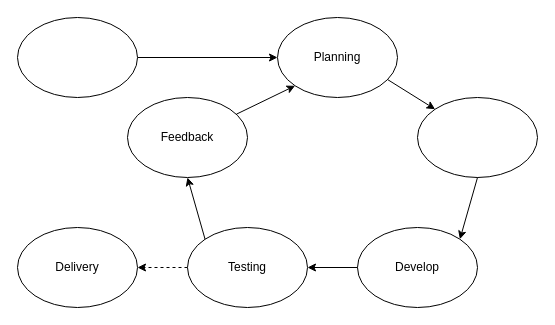
The diagram is 555 pixels wide and 325 high, and some of its shapes have lost their labels. The shapes that lost their labels are listed below. From the top down, each one's box as (x1, y1, x2, y2) in pixels, then its label:
(16, 16, 138, 98): Project Requirements
(416, 96, 538, 178): Design
